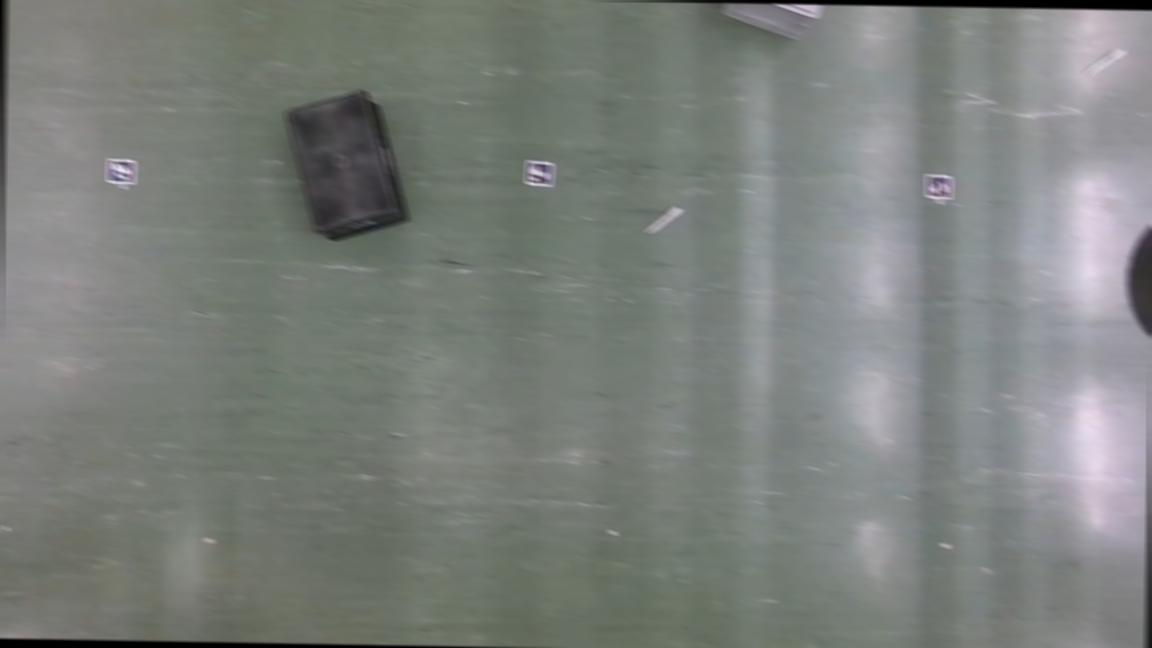probes: (1084, 48, 1124, 76), (648, 207, 680, 236)
rako: (284, 90, 410, 244), (718, 3, 841, 42)
